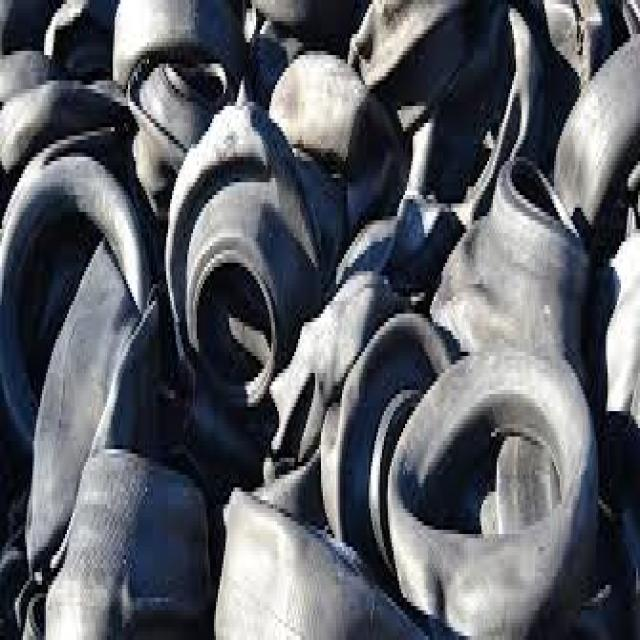Rubber -Non-Biodegradable but Recyclable-: (0, 0, 640, 636)
